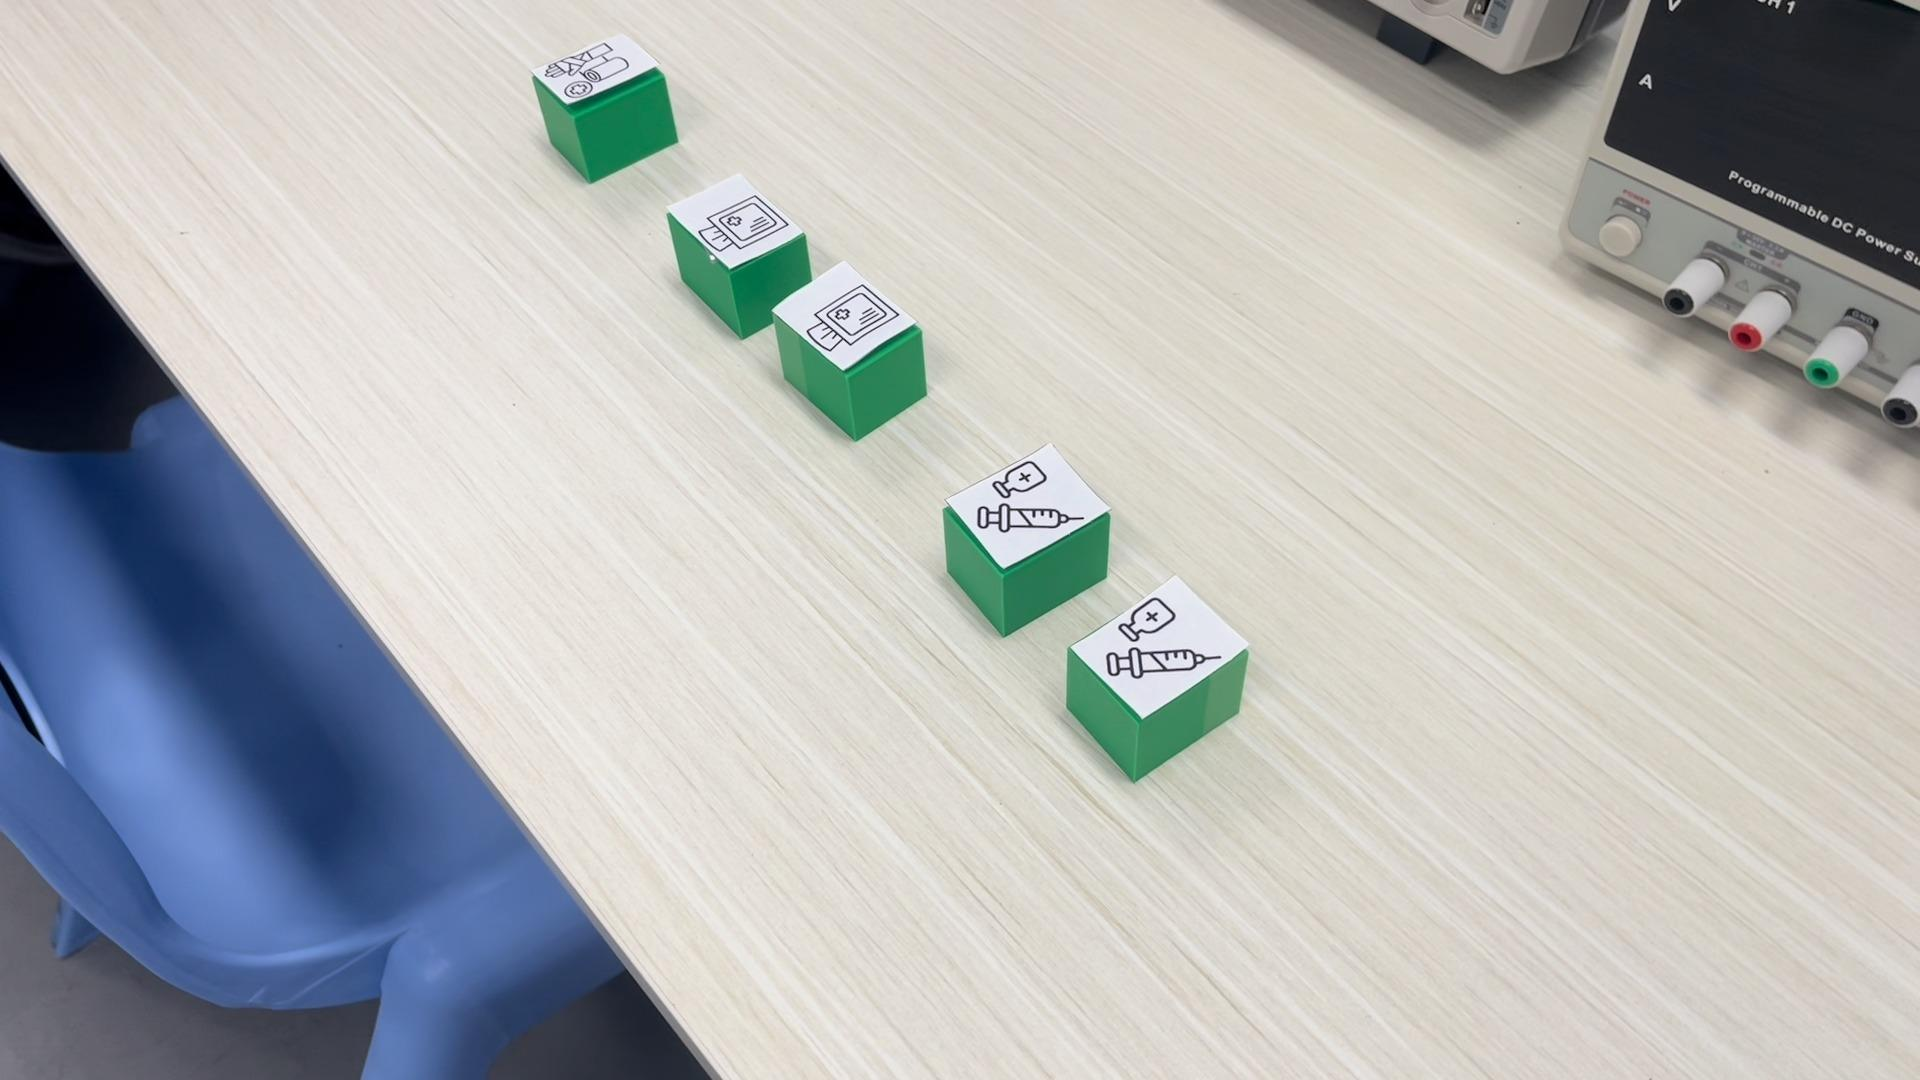Bandages: (528, 30, 679, 182)
Gauze: (751, 260, 930, 441), (663, 170, 815, 339)
antiseptic cream: (1063, 574, 1250, 779), (939, 442, 1114, 637)
